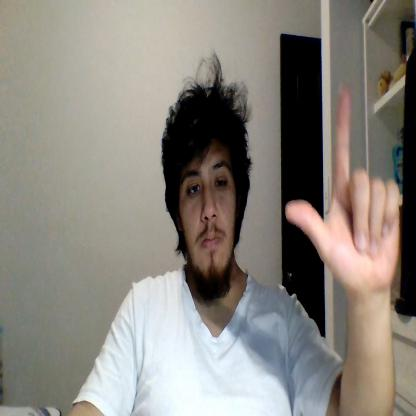L: (286, 91, 400, 288)
